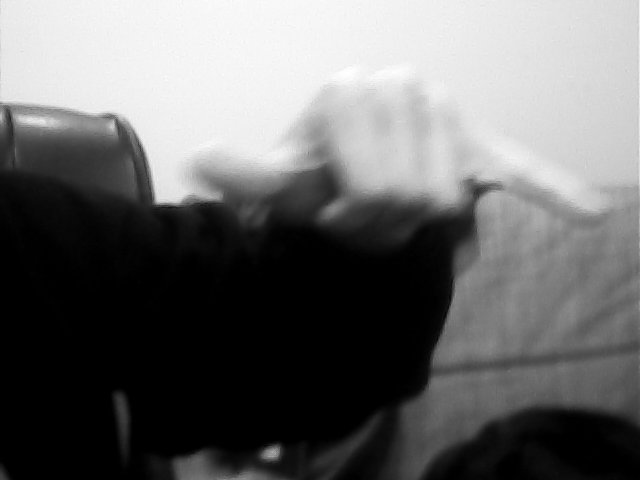aloha: (181, 58, 619, 252)
